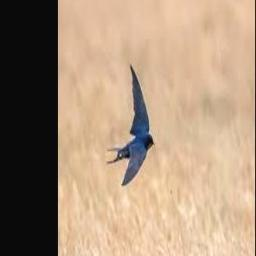Swallow: (107, 63, 154, 184)
